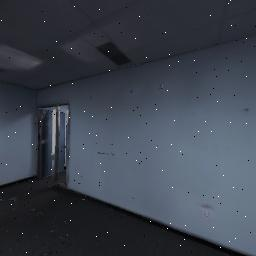door-frame: (25, 100, 78, 193)
